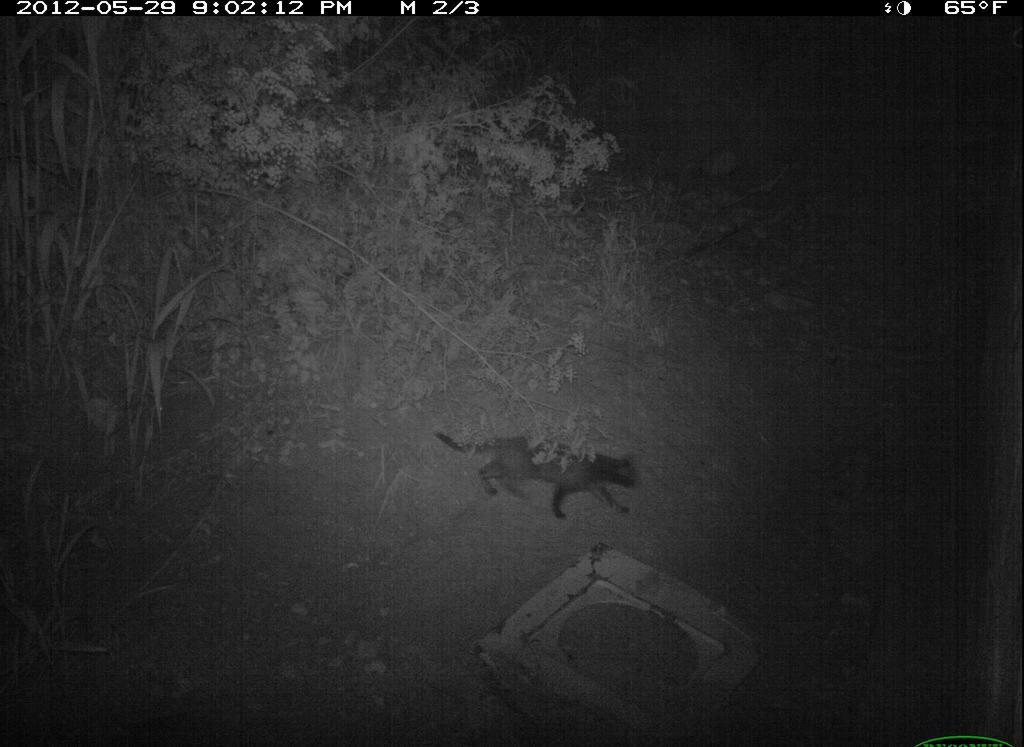cat: (436, 413, 658, 542)
